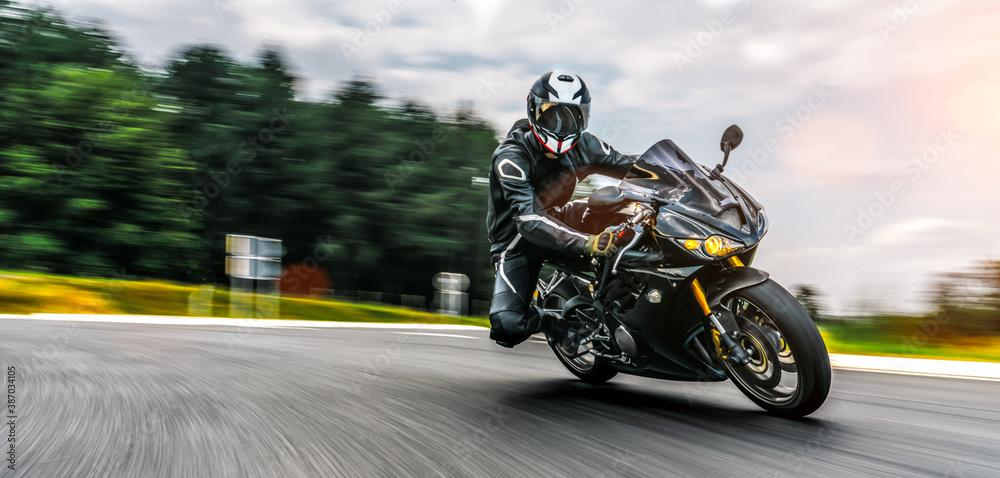helmet: (526, 70, 592, 157)
